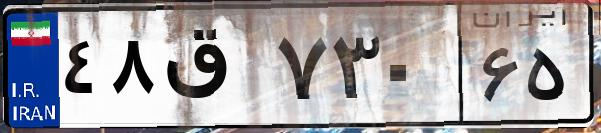0: (385, 28, 445, 110)
3: (330, 28, 385, 110)
4: (57, 26, 110, 100)
5: (525, 38, 570, 115)
6: (475, 38, 525, 113)
7: (270, 28, 330, 110)
8: (110, 28, 158, 98)
ق: (158, 20, 270, 120)
